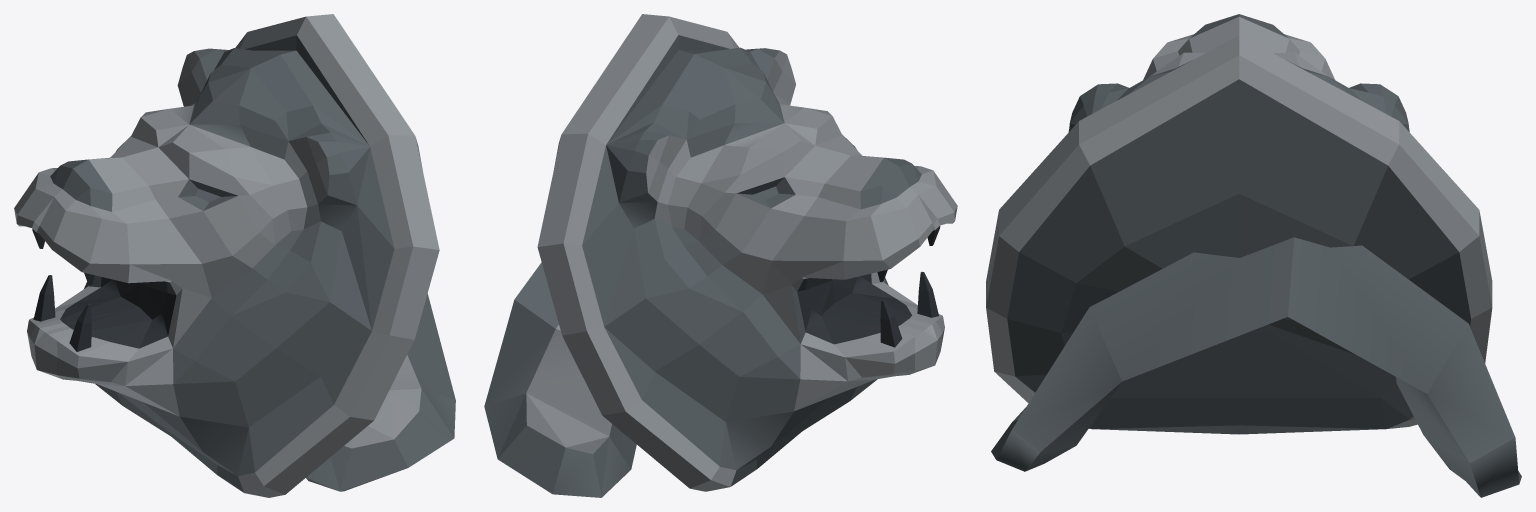
Rendered from Chr_ShoulderAttachRight_18_Static.fbx.
3 renders of one model, left to right at view 1: azimuth 30°, elevation 25°; view 2: azimuth 150°, elevation 25°; view 3: azimuth 270°, elevation 25°, orthographic. The views are drawn at different scales.
Visible parts, largest first — view 1: Chr_ShoulderAttachRight_18_Static; view 2: Chr_ShoulderAttachRight_18_Static; view 3: Chr_ShoulderAttachRight_18_Static.
Part boxes in pixels (x1,y1,x2,y2): Chr_ShoulderAttachRight_18_Static: (14,14,455,497); Chr_ShoulderAttachRight_18_Static: (484,14,957,497); Chr_ShoulderAttachRight_18_Static: (986,14,1521,497).
Size of the model in its own units: 0.2754 by 0.3046 by 0.3227.
